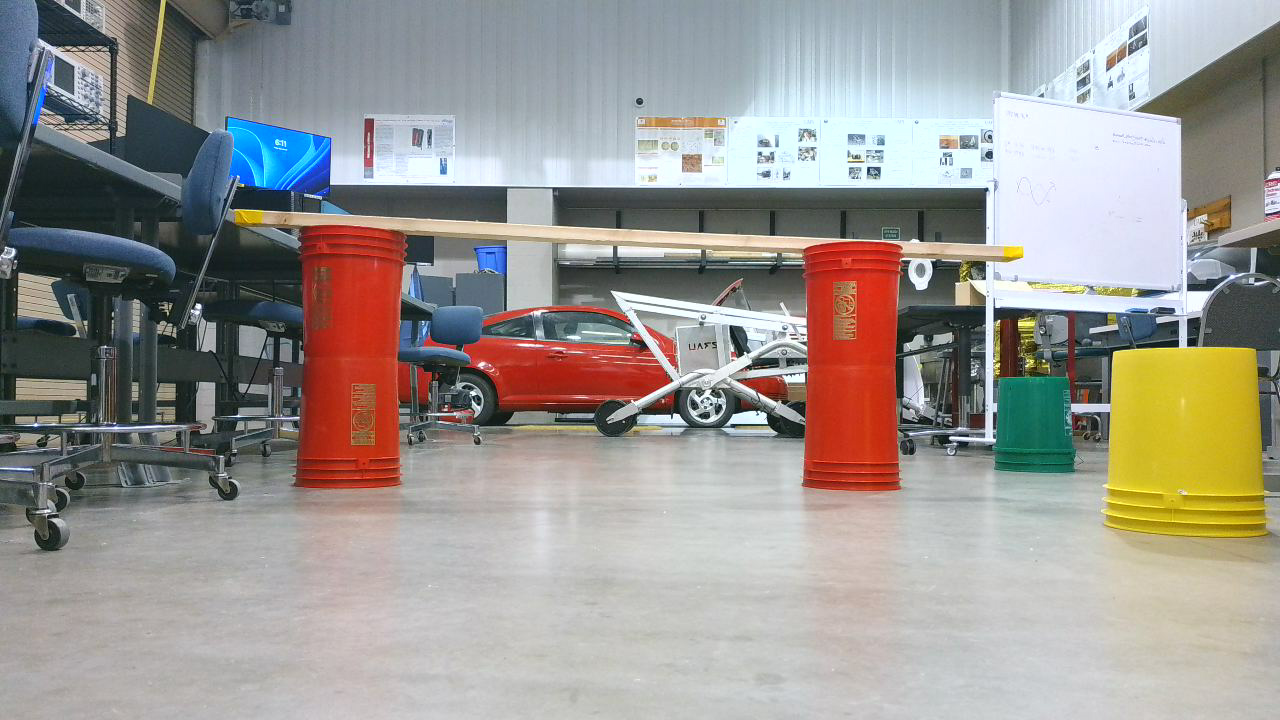green_bucket_barrier: (993, 375, 1089, 479)
red_bucket_arch: (291, 211, 919, 506)
yellow_bucket: (1102, 346, 1280, 540)
